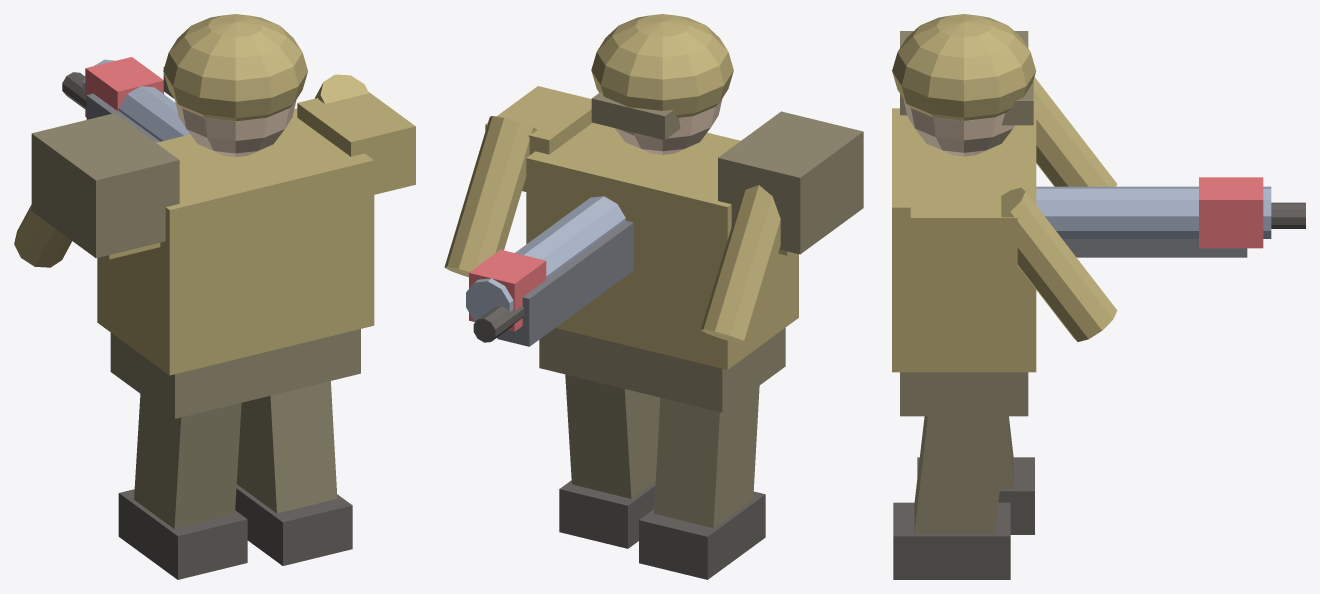
File: dm_railhero.glb
3 renders of one model, left to right at view 1: azimuth 30°, elevation 25°; view 2: azimuth 150°, elevation 25°; view 3: azimuth 270°, elevation 25°, orthographic.
Visible parts, largest first — view 1: soldier; view 2: soldier; view 3: soldier.
Part boxes in pixels (left/top/right/bottom): soldier: left=14, top=14, right=415, bottom=579; soldier: left=444, top=14, right=863, bottom=579; soldier: left=892, top=14, right=1305, bottom=579.
Size of what is drawn, in the model's own units: 0.7 by 1.07 by 0.775.
